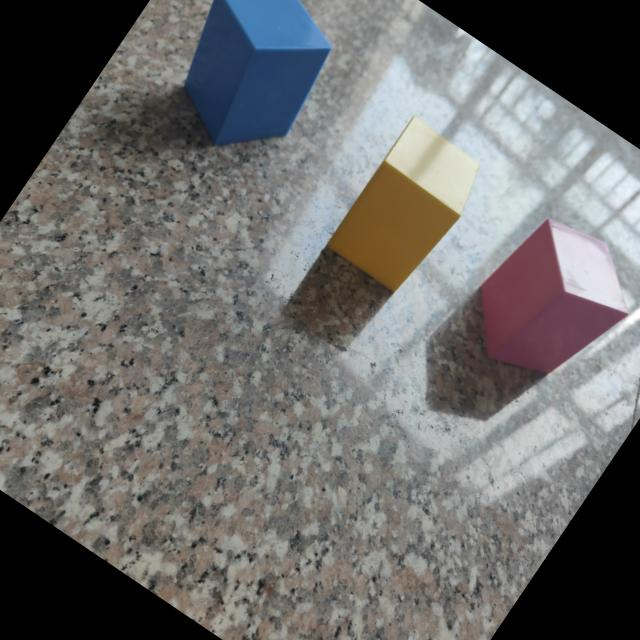blue: (183, 0, 332, 148)
pink: (476, 220, 628, 379)
yellow: (324, 118, 478, 294)
